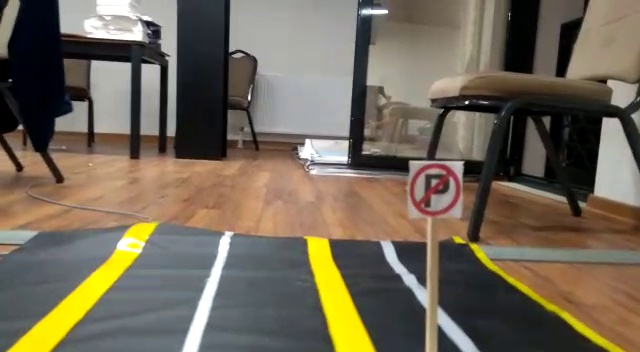park_yapilmaz: (411, 162, 464, 218)
